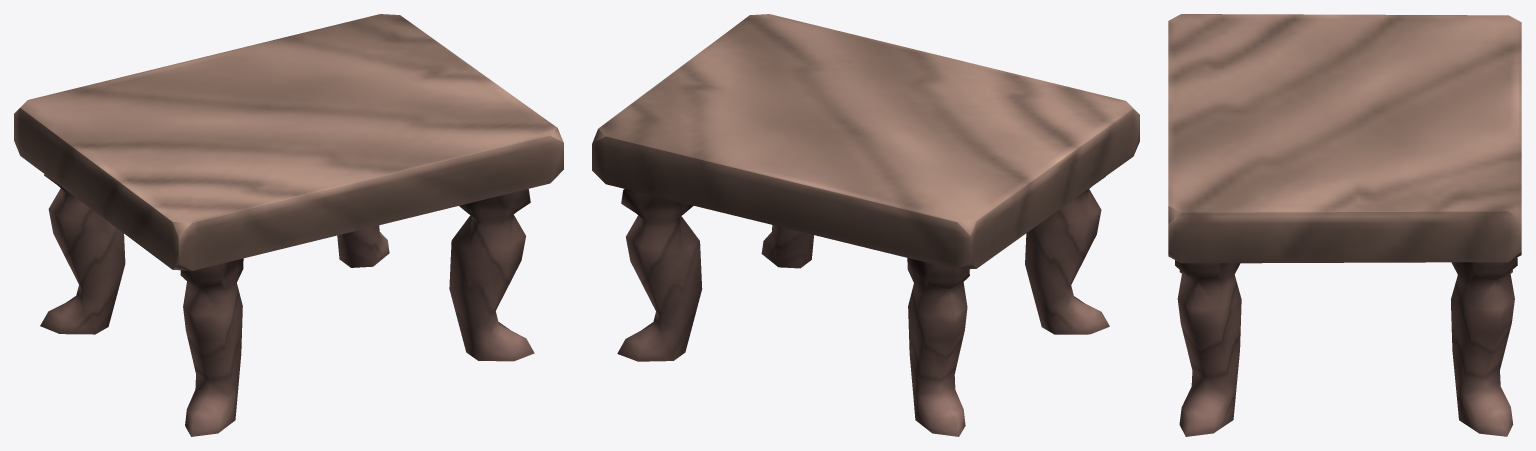
Rendered from coffeetableSq_BW.glb.
The picture shows the model from 3 angles, left to right: view 1: azimuth 30°, elevation 25°; view 2: azimuth 150°, elevation 25°; view 3: azimuth 270°, elevation 25°; orthographic projection. The views are drawn at different scales.
Parts seen in each view (by area): view 1: top1, leggroup4, leggroup1, leggroup2, leggroup3; view 2: top1, leggroup3, leggroup2, leggroup1, leggroup4; view 3: top1, leggroup3, leggroup4.
Part boxes in pixels (x1,y1,x2,y2): top1: (14,14,563,270); leggroup4: (449,189,534,361); leggroup1: (180,258,243,436); leggroup2: (40,174,125,334); leggroup3: (337,225,389,267); top1: (592,14,1139,269); leggroup3: (617,189,702,361); leggroup2: (907,258,969,436); leggroup1: (1025,176,1109,334); leggroup4: (761,225,813,268); top1: (1168,14,1521,263); leggroup3: (1451,258,1517,436); leggroup4: (1175,260,1241,436).
Size of the model in its own units: 4.12 by 2.27 by 3.09.
Materials: 2 (2 with a texture image).
